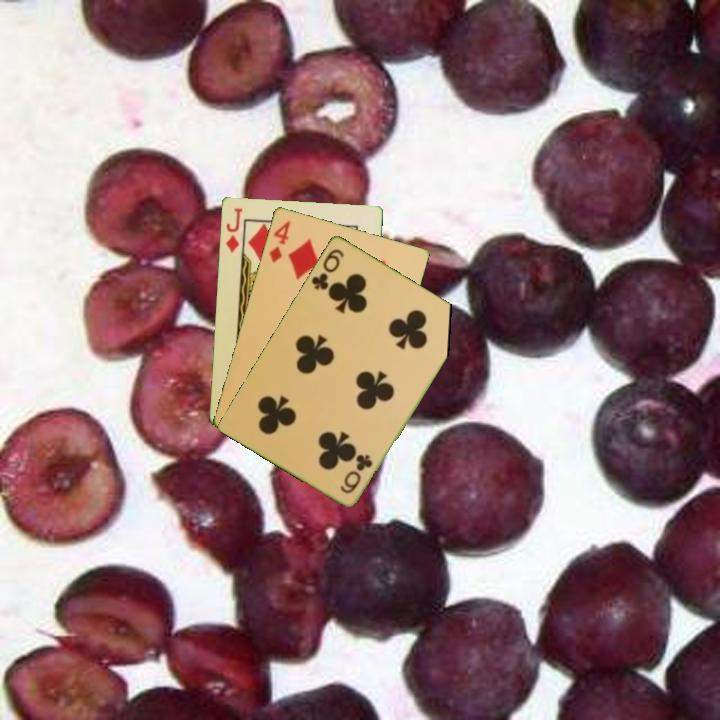4d: (265, 217, 293, 265)
6c: (307, 245, 347, 293), (337, 450, 375, 496)
Jd: (222, 204, 245, 255)
